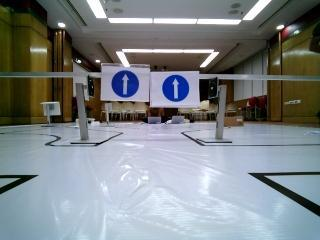straight: (102, 65, 150, 102), (152, 73, 200, 106)
